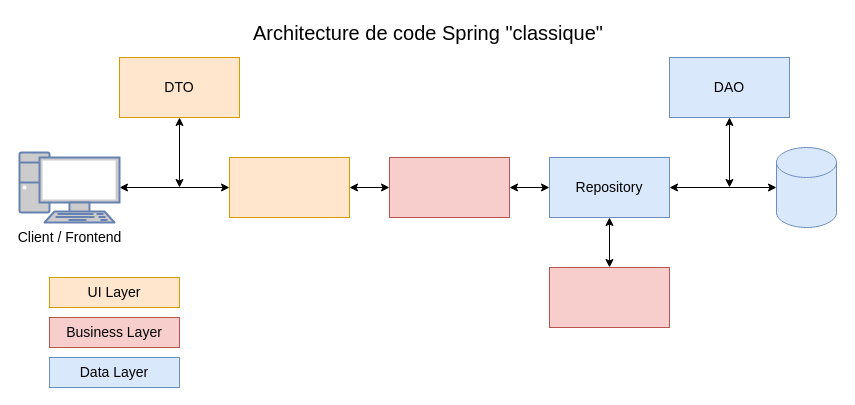
The diagram is 855 pixels wide and 405 high, and some of its shapes have lost their labels. The shapes that lost their labels are listed below. From the top down, each one's centre as x and y in pixels, then its label:
At point (289, 187): "Controller".
At point (449, 187): "Service".
At point (806, 187): "DB".
At point (609, 297): "Model".
